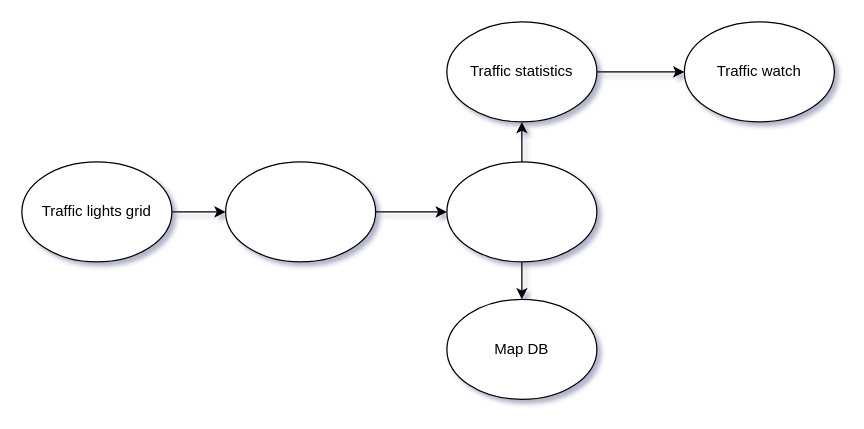
Image size: 864x429. Some labels were removed from this diagram. Each missing label, with the centre of its shape:
"GA" belongs at point (300, 211).
"Simulator" belongs at point (521, 211).
